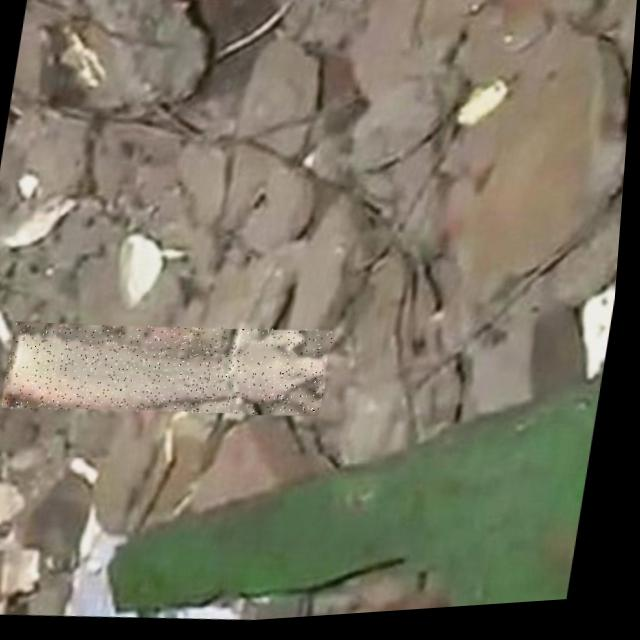Person in Rubble: (6, 306, 340, 436)
